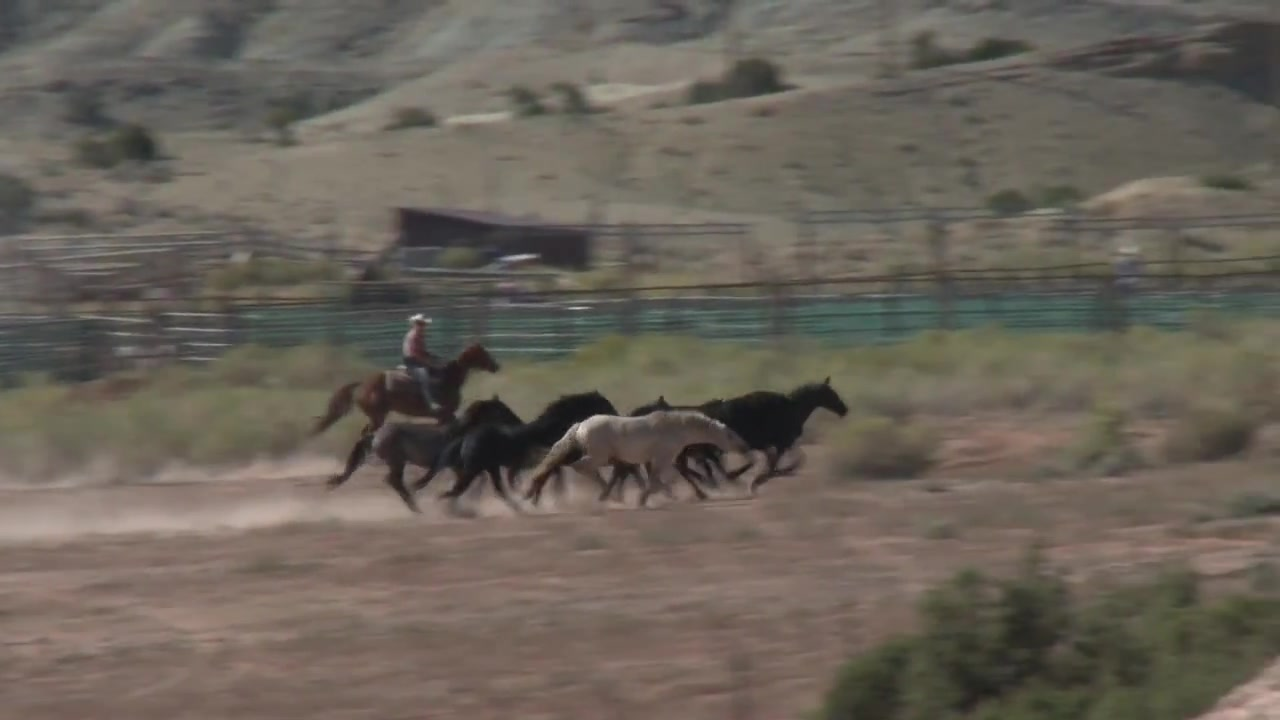horse: (411, 394, 624, 508), (528, 411, 761, 511), (323, 394, 524, 508), (314, 340, 511, 447), (730, 378, 851, 485), (601, 391, 683, 498), (680, 394, 751, 495)
